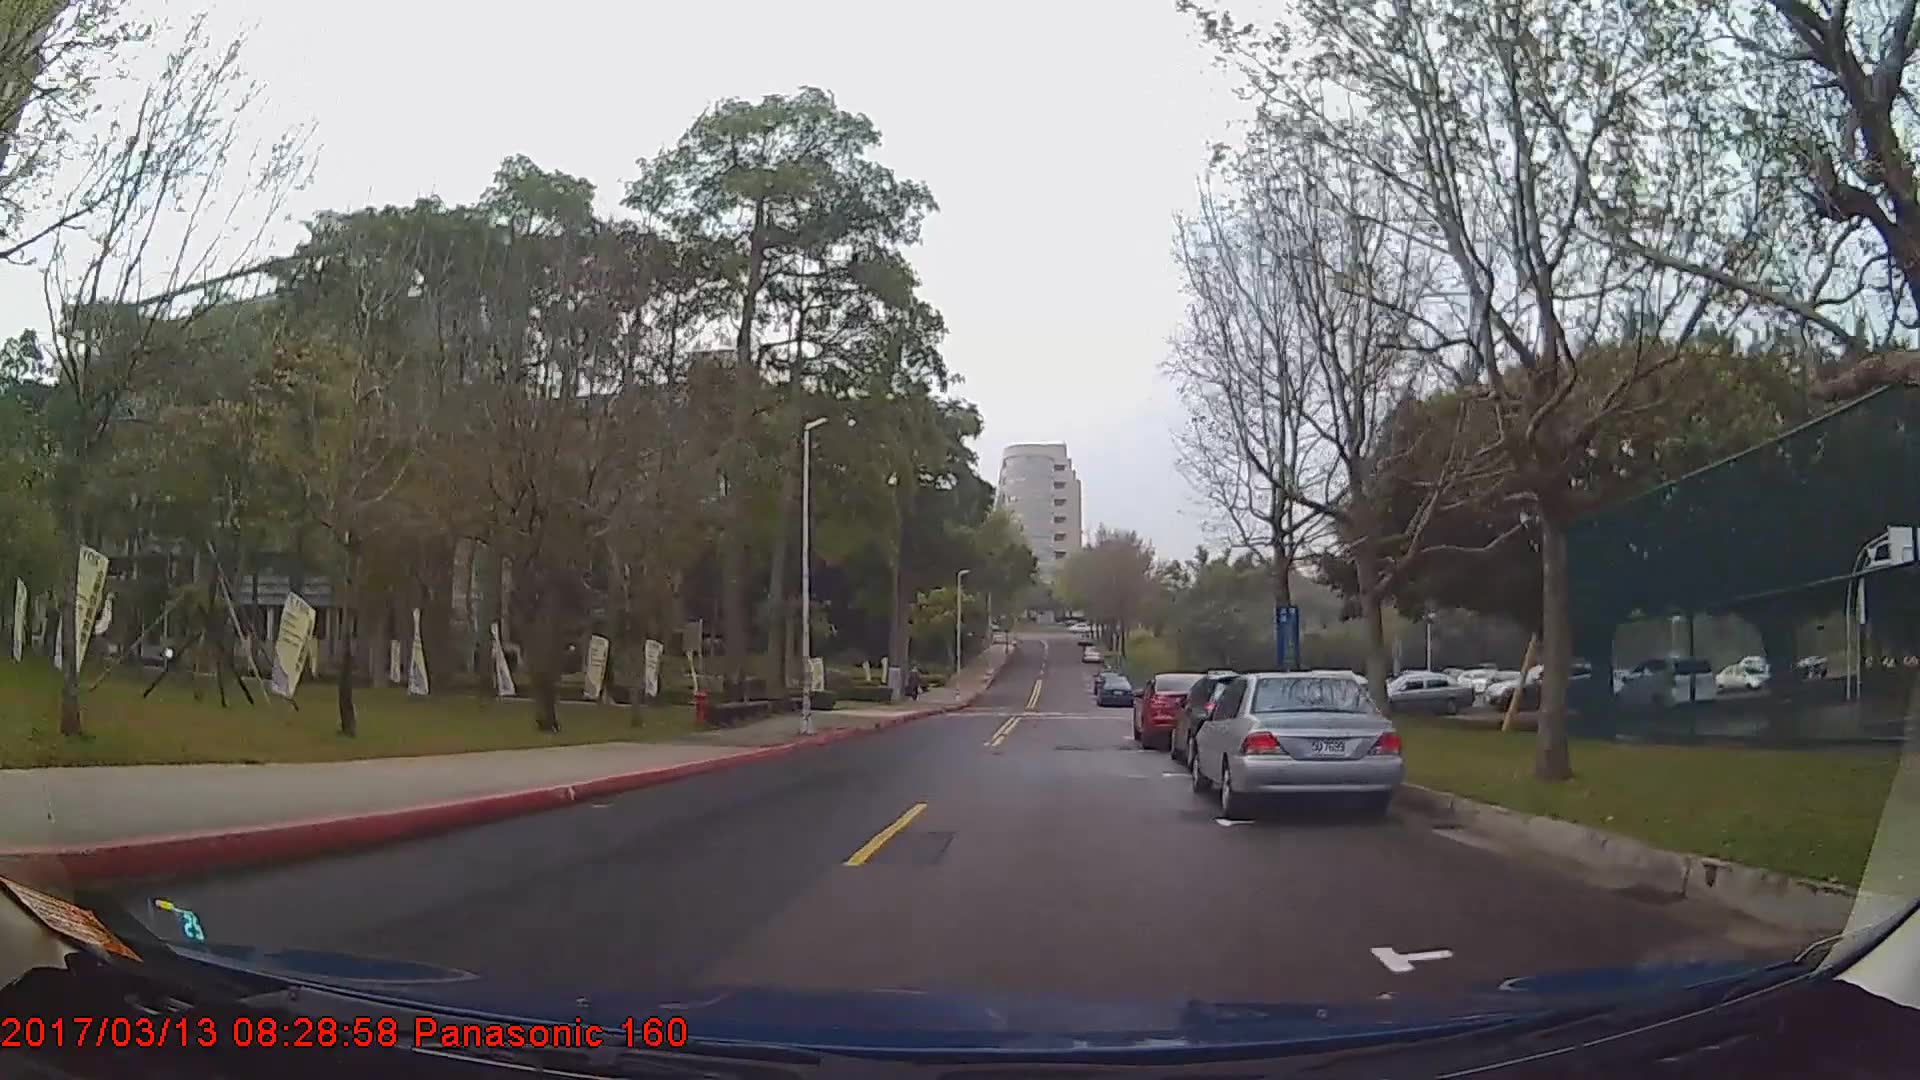vehicle: (1191, 673, 1403, 822), (1134, 673, 1230, 754), (1606, 654, 1716, 715), (1487, 662, 1610, 712), (1375, 667, 1473, 719), (1095, 673, 1131, 707)
